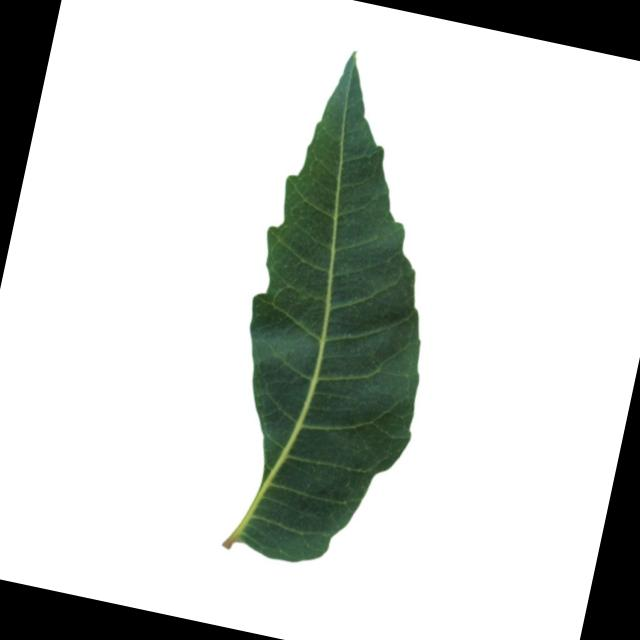Medicinal-Neem: (202, 34, 488, 578)
